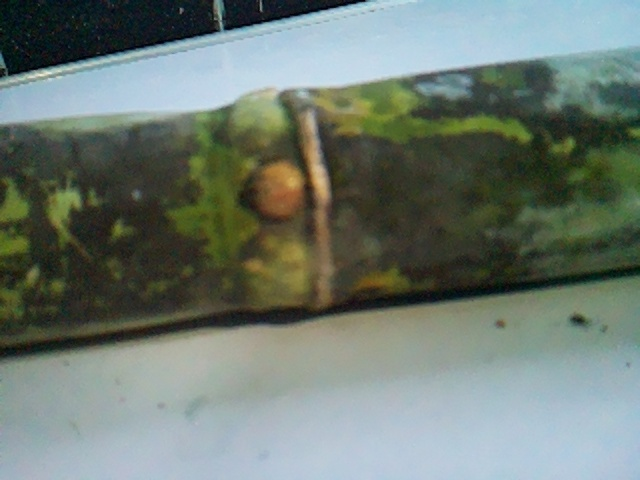Good Sugarcane: (0, 39, 635, 363)
Node: (179, 79, 359, 323)
